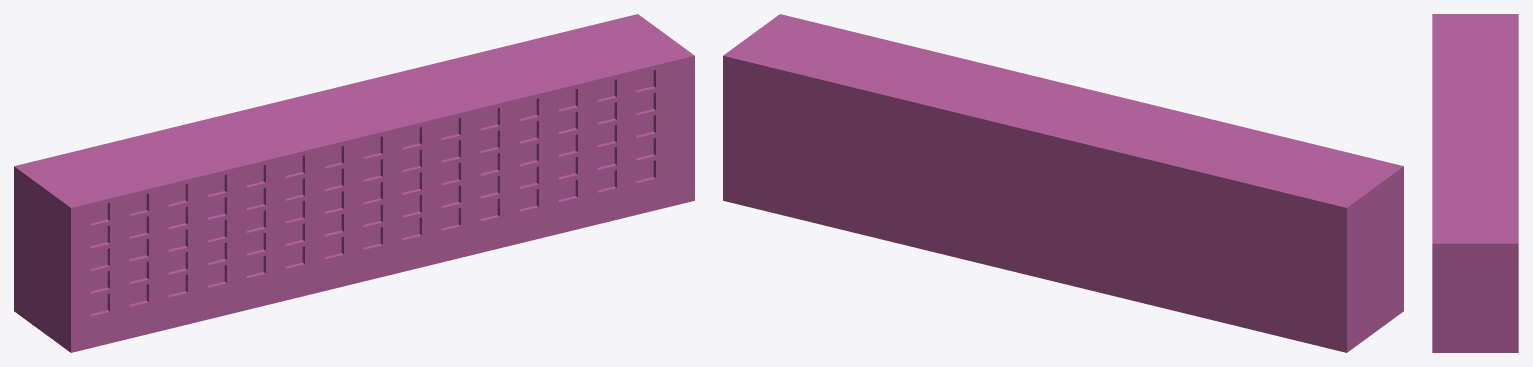
File: level1.2.fbx
3 views of the same model, side by side, from view 1: azimuth 30°, elevation 25°; view 2: azimuth 150°, elevation 25°; view 3: azimuth 270°, elevation 25° (orthographic). The views are drawn at different scales.
Visible parts, largest first — view 1: Cube.002; view 2: Cube.002; view 3: Cube.002.
Part boxes in pixels (<box>): Cube.002: <box>14,14,694,352</box>; Cube.002: <box>723,14,1403,352</box>; Cube.002: <box>1432,14,1518,352</box>.
Size of the model in its own units: 1393 by 309 by 221.
